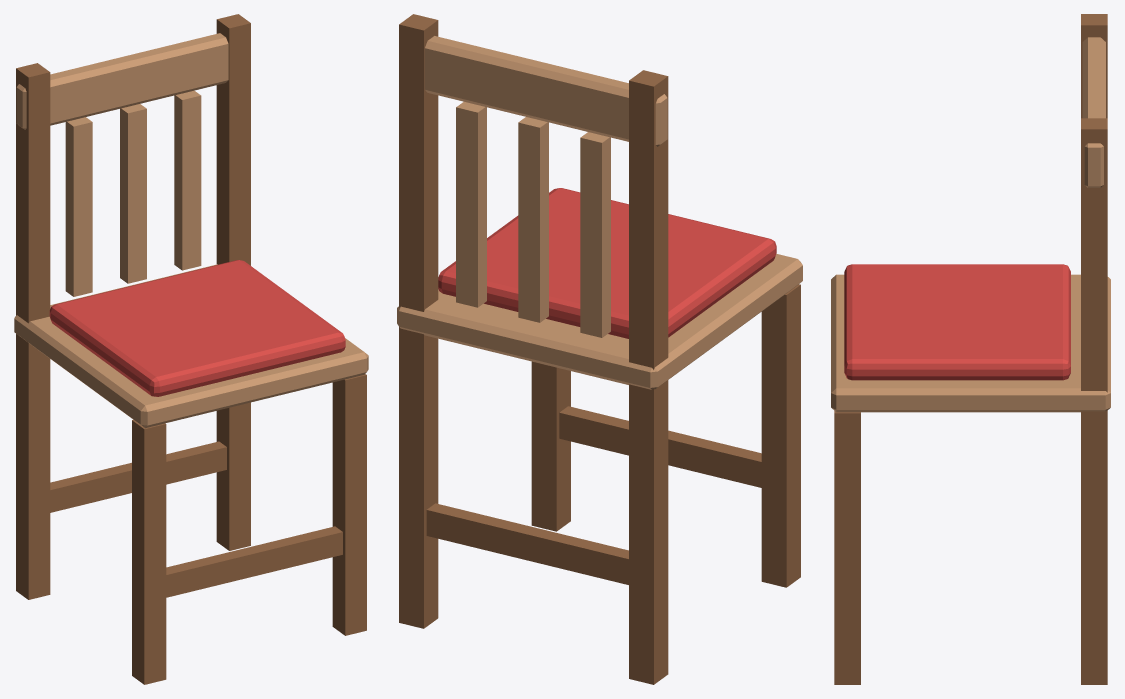
File: chair.glb
3 views of the same model, side by side, from view 1: azimuth 30°, elevation 25°; view 2: azimuth 150°, elevation 25°; view 3: azimuth 270°, elevation 25° (orthographic). The views are drawn at different scales.
Parts seen in each view (by area): view 1: chair; view 2: chair; view 3: chair.
Boxes of the visible parts, left/top/right/bottom form: chair: left=14, top=14, right=368, bottom=684; chair: left=397, top=14, right=802, bottom=684; chair: left=831, top=14, right=1110, bottom=684.
Bounding box in the file's own units: 0.4199 × 0.92 × 0.4199.
1 material, 1 textured.
